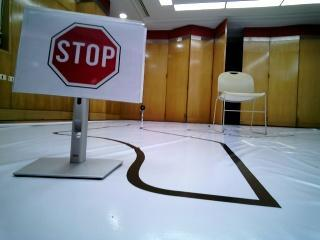stop: (36, 17, 132, 92)
